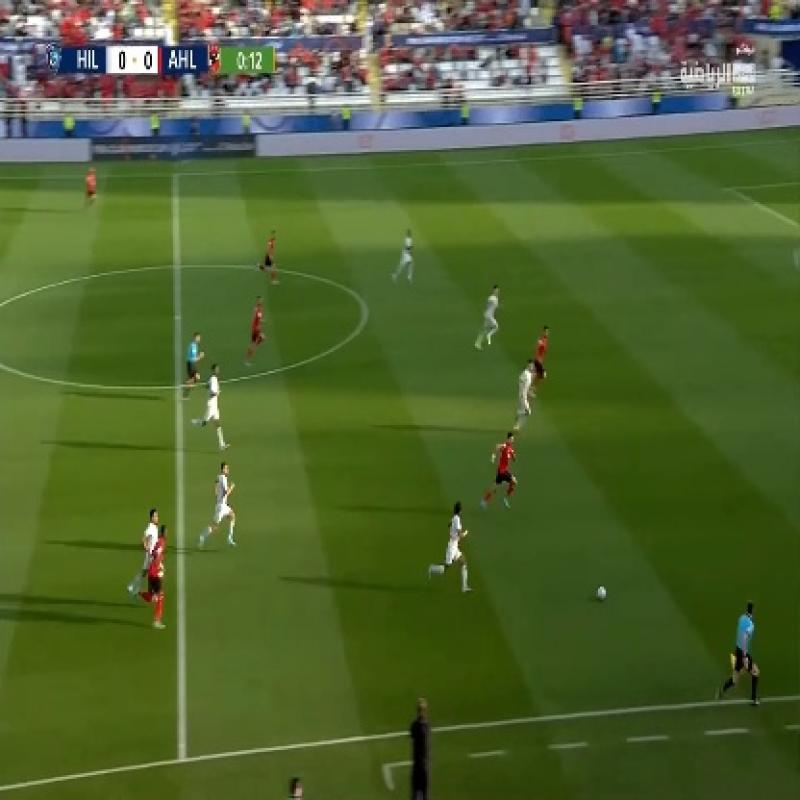13: (166, 160, 184, 186)
14: (164, 250, 188, 281)
15: (166, 365, 190, 404)
16: (165, 732, 198, 774)
9: (718, 175, 740, 200)
c: (345, 292, 387, 333)
